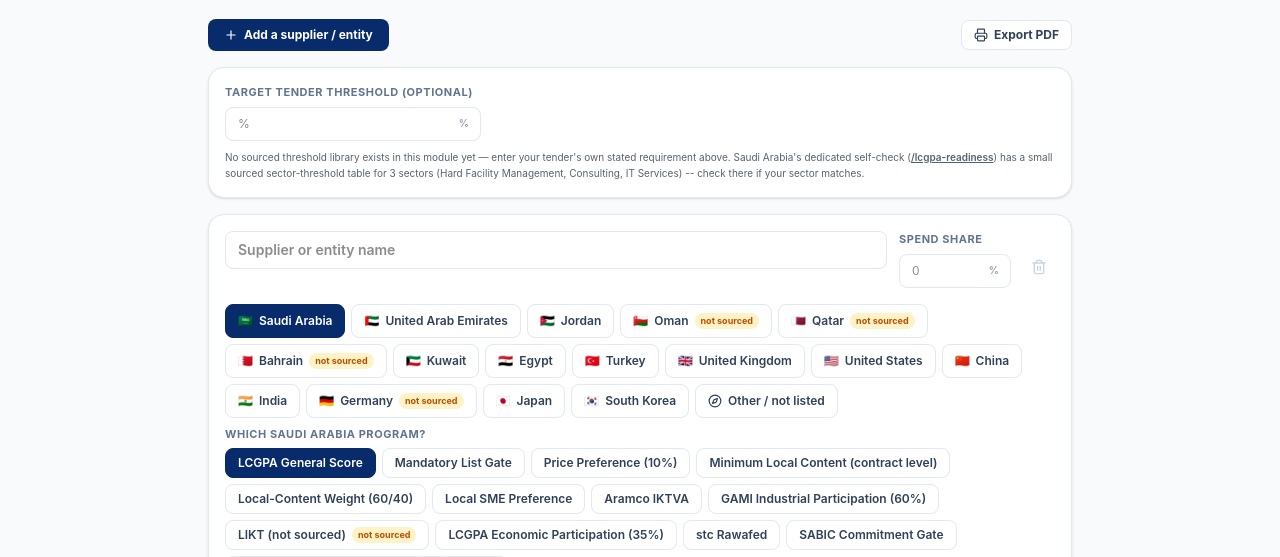
Test case: LocalContentICVCheck -- USA / Berry Amendment (DoD) Coverage Gate real click-through (resolved this pass) › selecting USA then Berry Amendment reveals the real two-toggle gate and computes a genuine eligibility result both ways
(page scrolled)
Click the button "🇺🇸 United States". click: (873,360)
box: [811, 344, 936, 378]
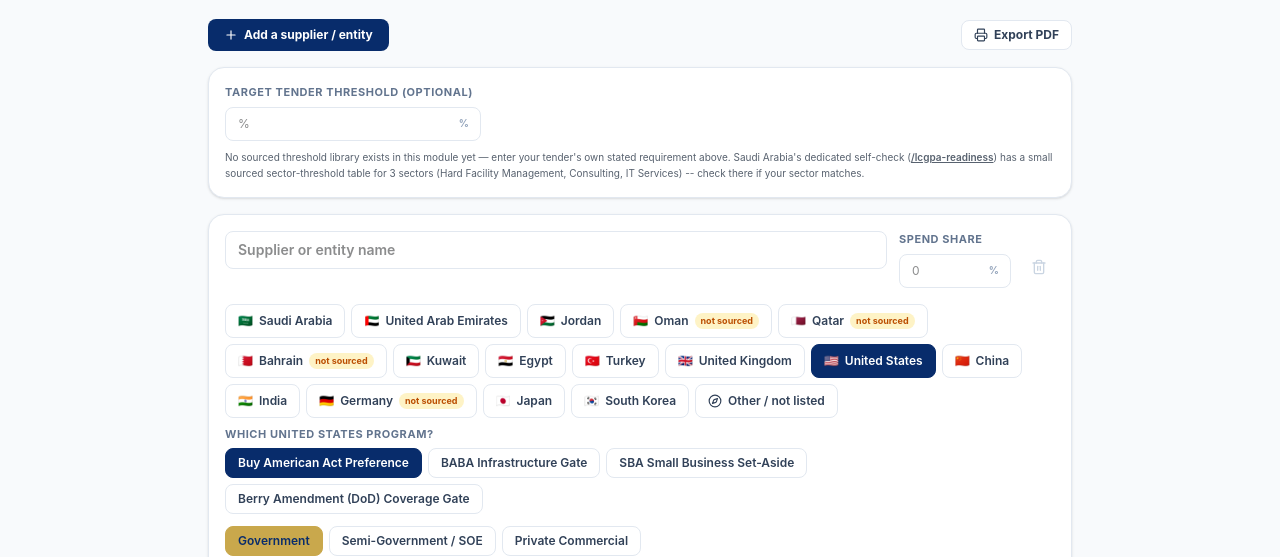
Click the button "Berry Amendment (DoD) Coverage Gate". click: (354,499)
box: [225, 484, 483, 514]
(page scrolled)
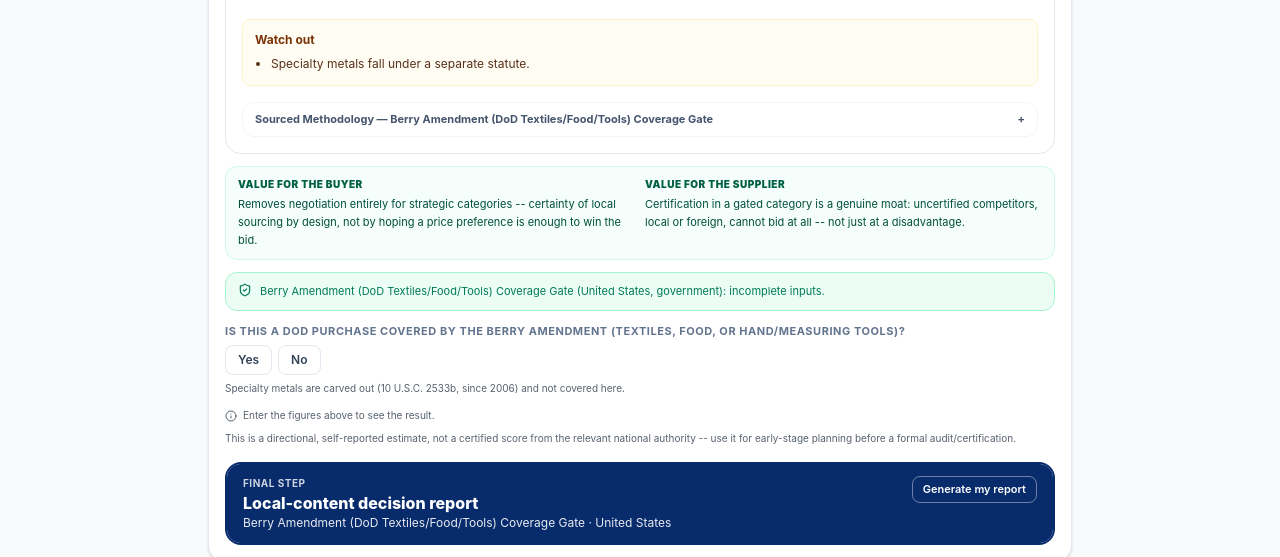
Click the button "Yes". click: (249,360)
box: [225, 345, 272, 375]
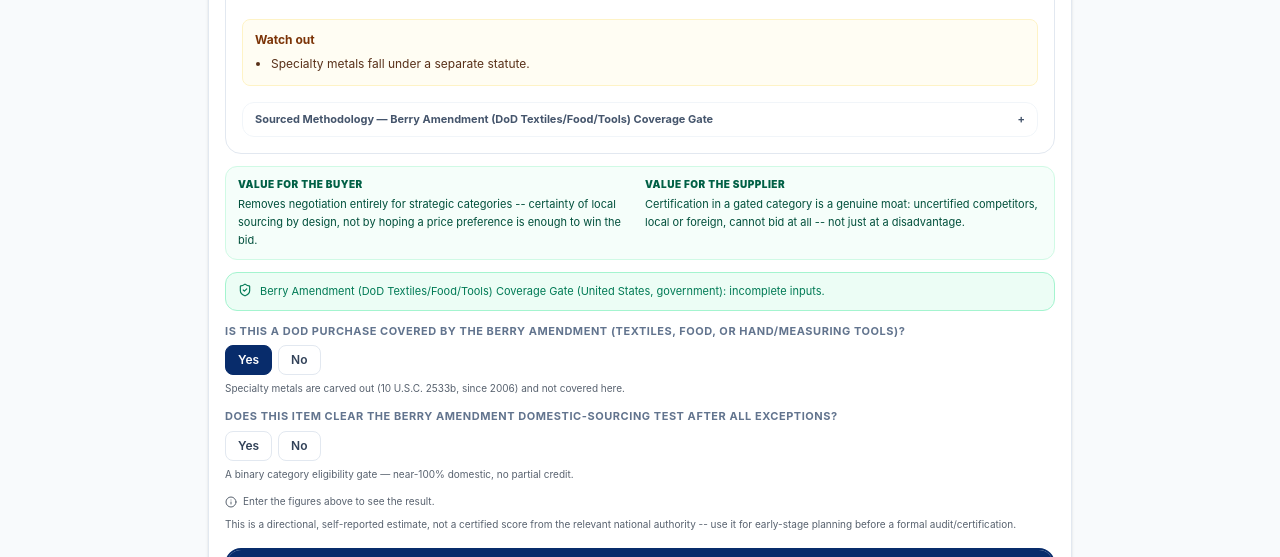
Click the 2nd button "Yes". click: (249,446)
box: [225, 431, 272, 461]
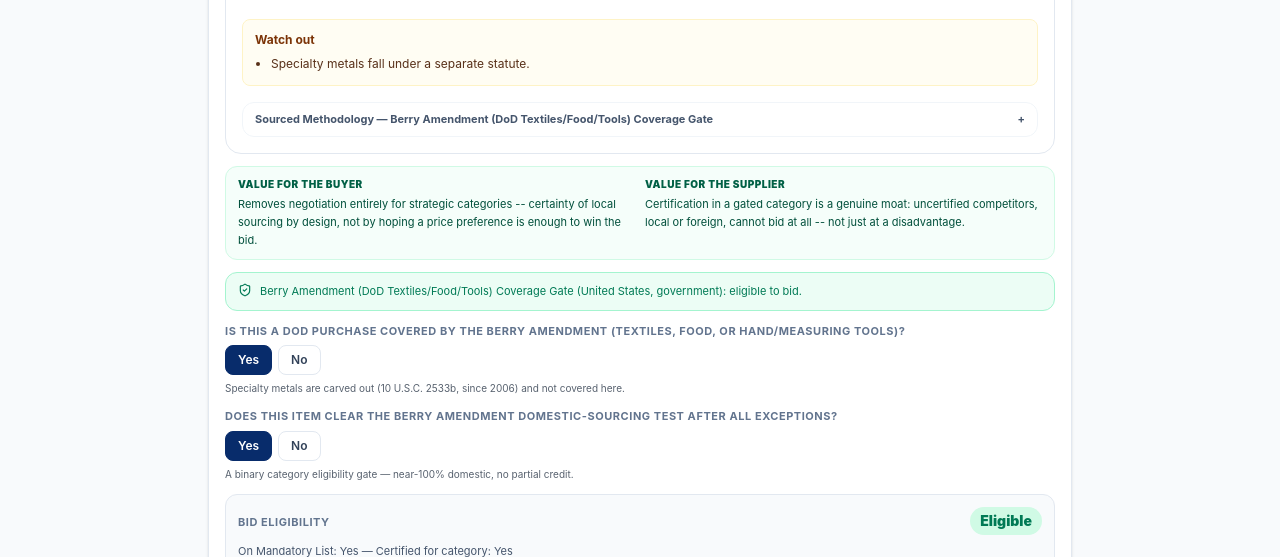
Now the text "eligible to bid" is shown, box [260, 284, 802, 298]
Click the 2nd button "No". click: (299,446)
box: [278, 431, 320, 461]
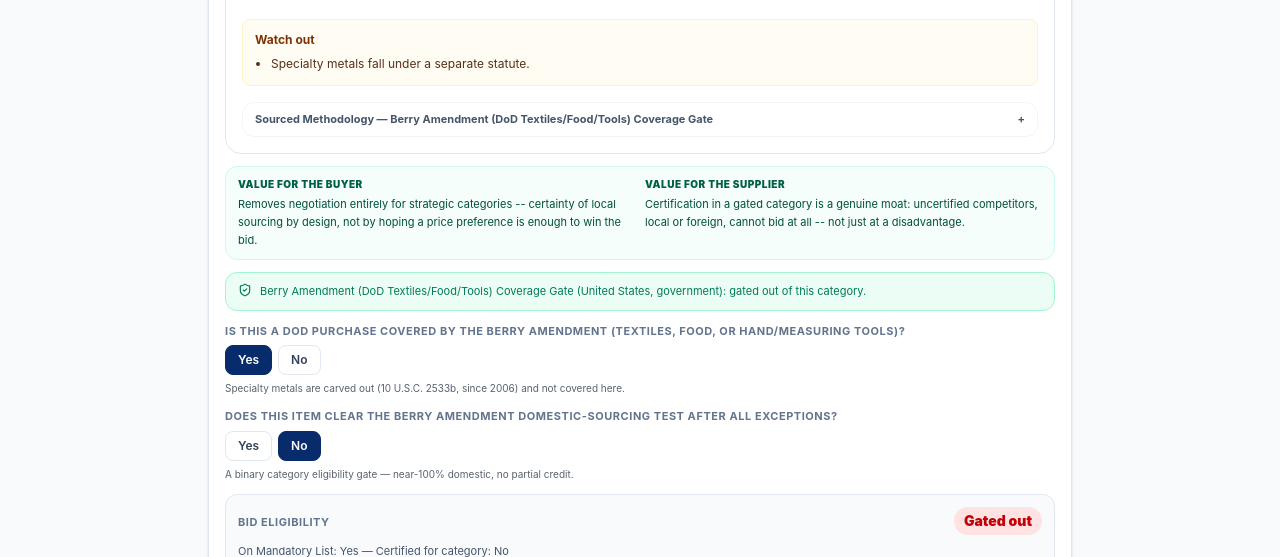
Now the text "gated out of this category" is shown, box [260, 284, 866, 298]
